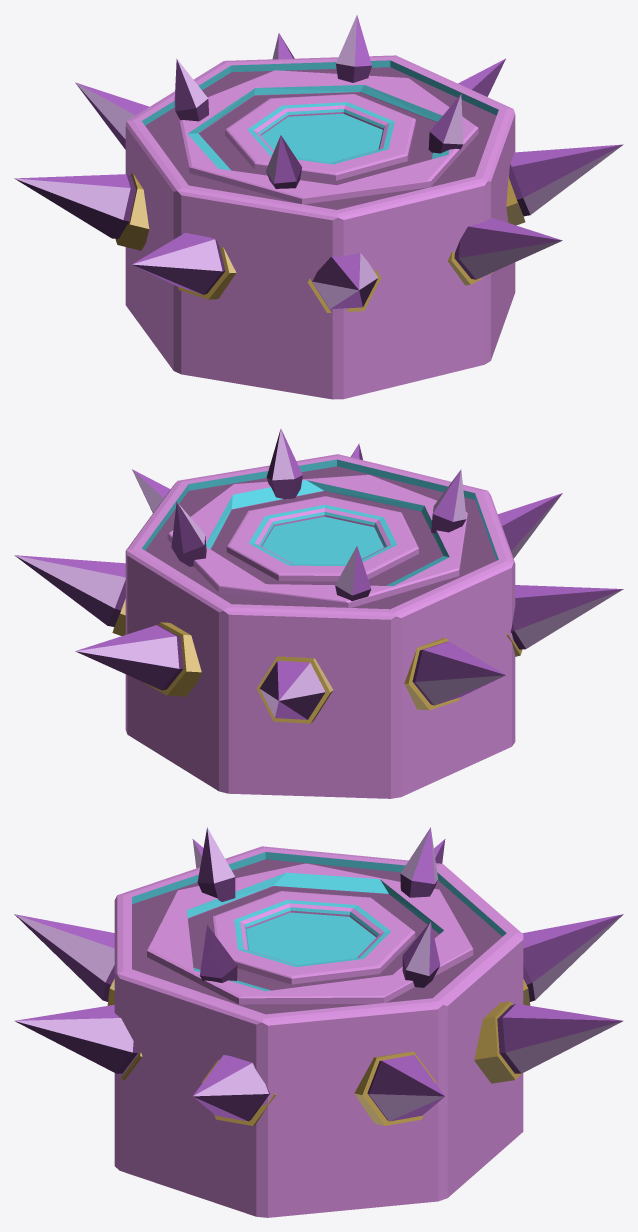
File: amethyst_spike.fbx
3 views of the same model, one above another, from view 1: azimuth 30°, elevation 25°; view 2: azimuth 150°, elevation 25°; view 3: azimuth 270°, elevation 25° (orthographic). The views are drawn at different scales.
Visible parts, largest first — view 1: amethyst_spike_body; view 2: amethyst_spike_body; view 3: amethyst_spike_body.
Boxes of the visible parts, x1,y1,x2,y2 form: amethyst_spike_body: (14,15,623,399); amethyst_spike_body: (14,428,623,798); amethyst_spike_body: (14,827,623,1217).
Bounding box in the file's own units: 5.64 × 2.6 × 5.64.
1 material, 1 textured.
